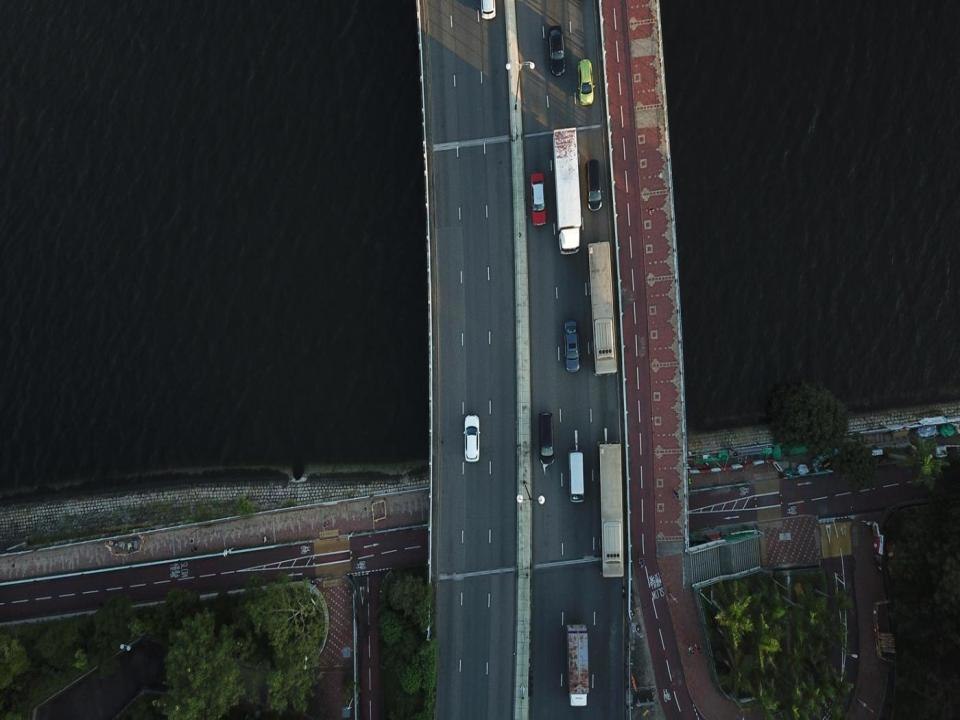bus: (587, 242, 617, 377), (598, 442, 626, 580)
car: (530, 172, 548, 226), (563, 320, 581, 372), (548, 25, 566, 74), (578, 59, 595, 104), (464, 415, 480, 462), (481, 0, 496, 21)
truck: (552, 127, 581, 253), (566, 623, 588, 707)
van: (569, 448, 586, 500), (538, 412, 554, 466), (586, 158, 602, 211)
